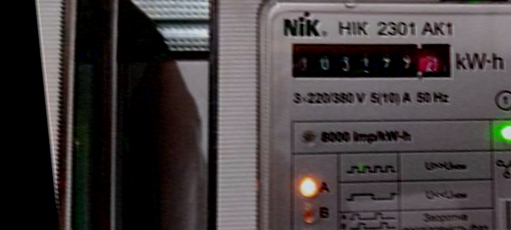0: (294, 52, 309, 72), (317, 51, 330, 71)
1: (359, 48, 370, 68)
3: (338, 53, 349, 73)
6: (422, 58, 434, 75)
9: (379, 50, 390, 69), (400, 52, 411, 71)
screen: (282, 22, 460, 100)
